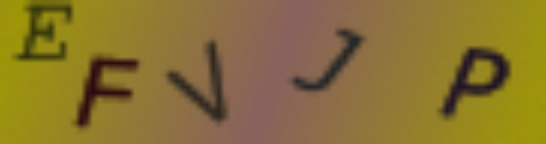E: (19, 1, 75, 67)
F: (71, 53, 147, 135)
J: (284, 22, 369, 95)
P: (437, 43, 514, 123)
V: (163, 35, 226, 123)
